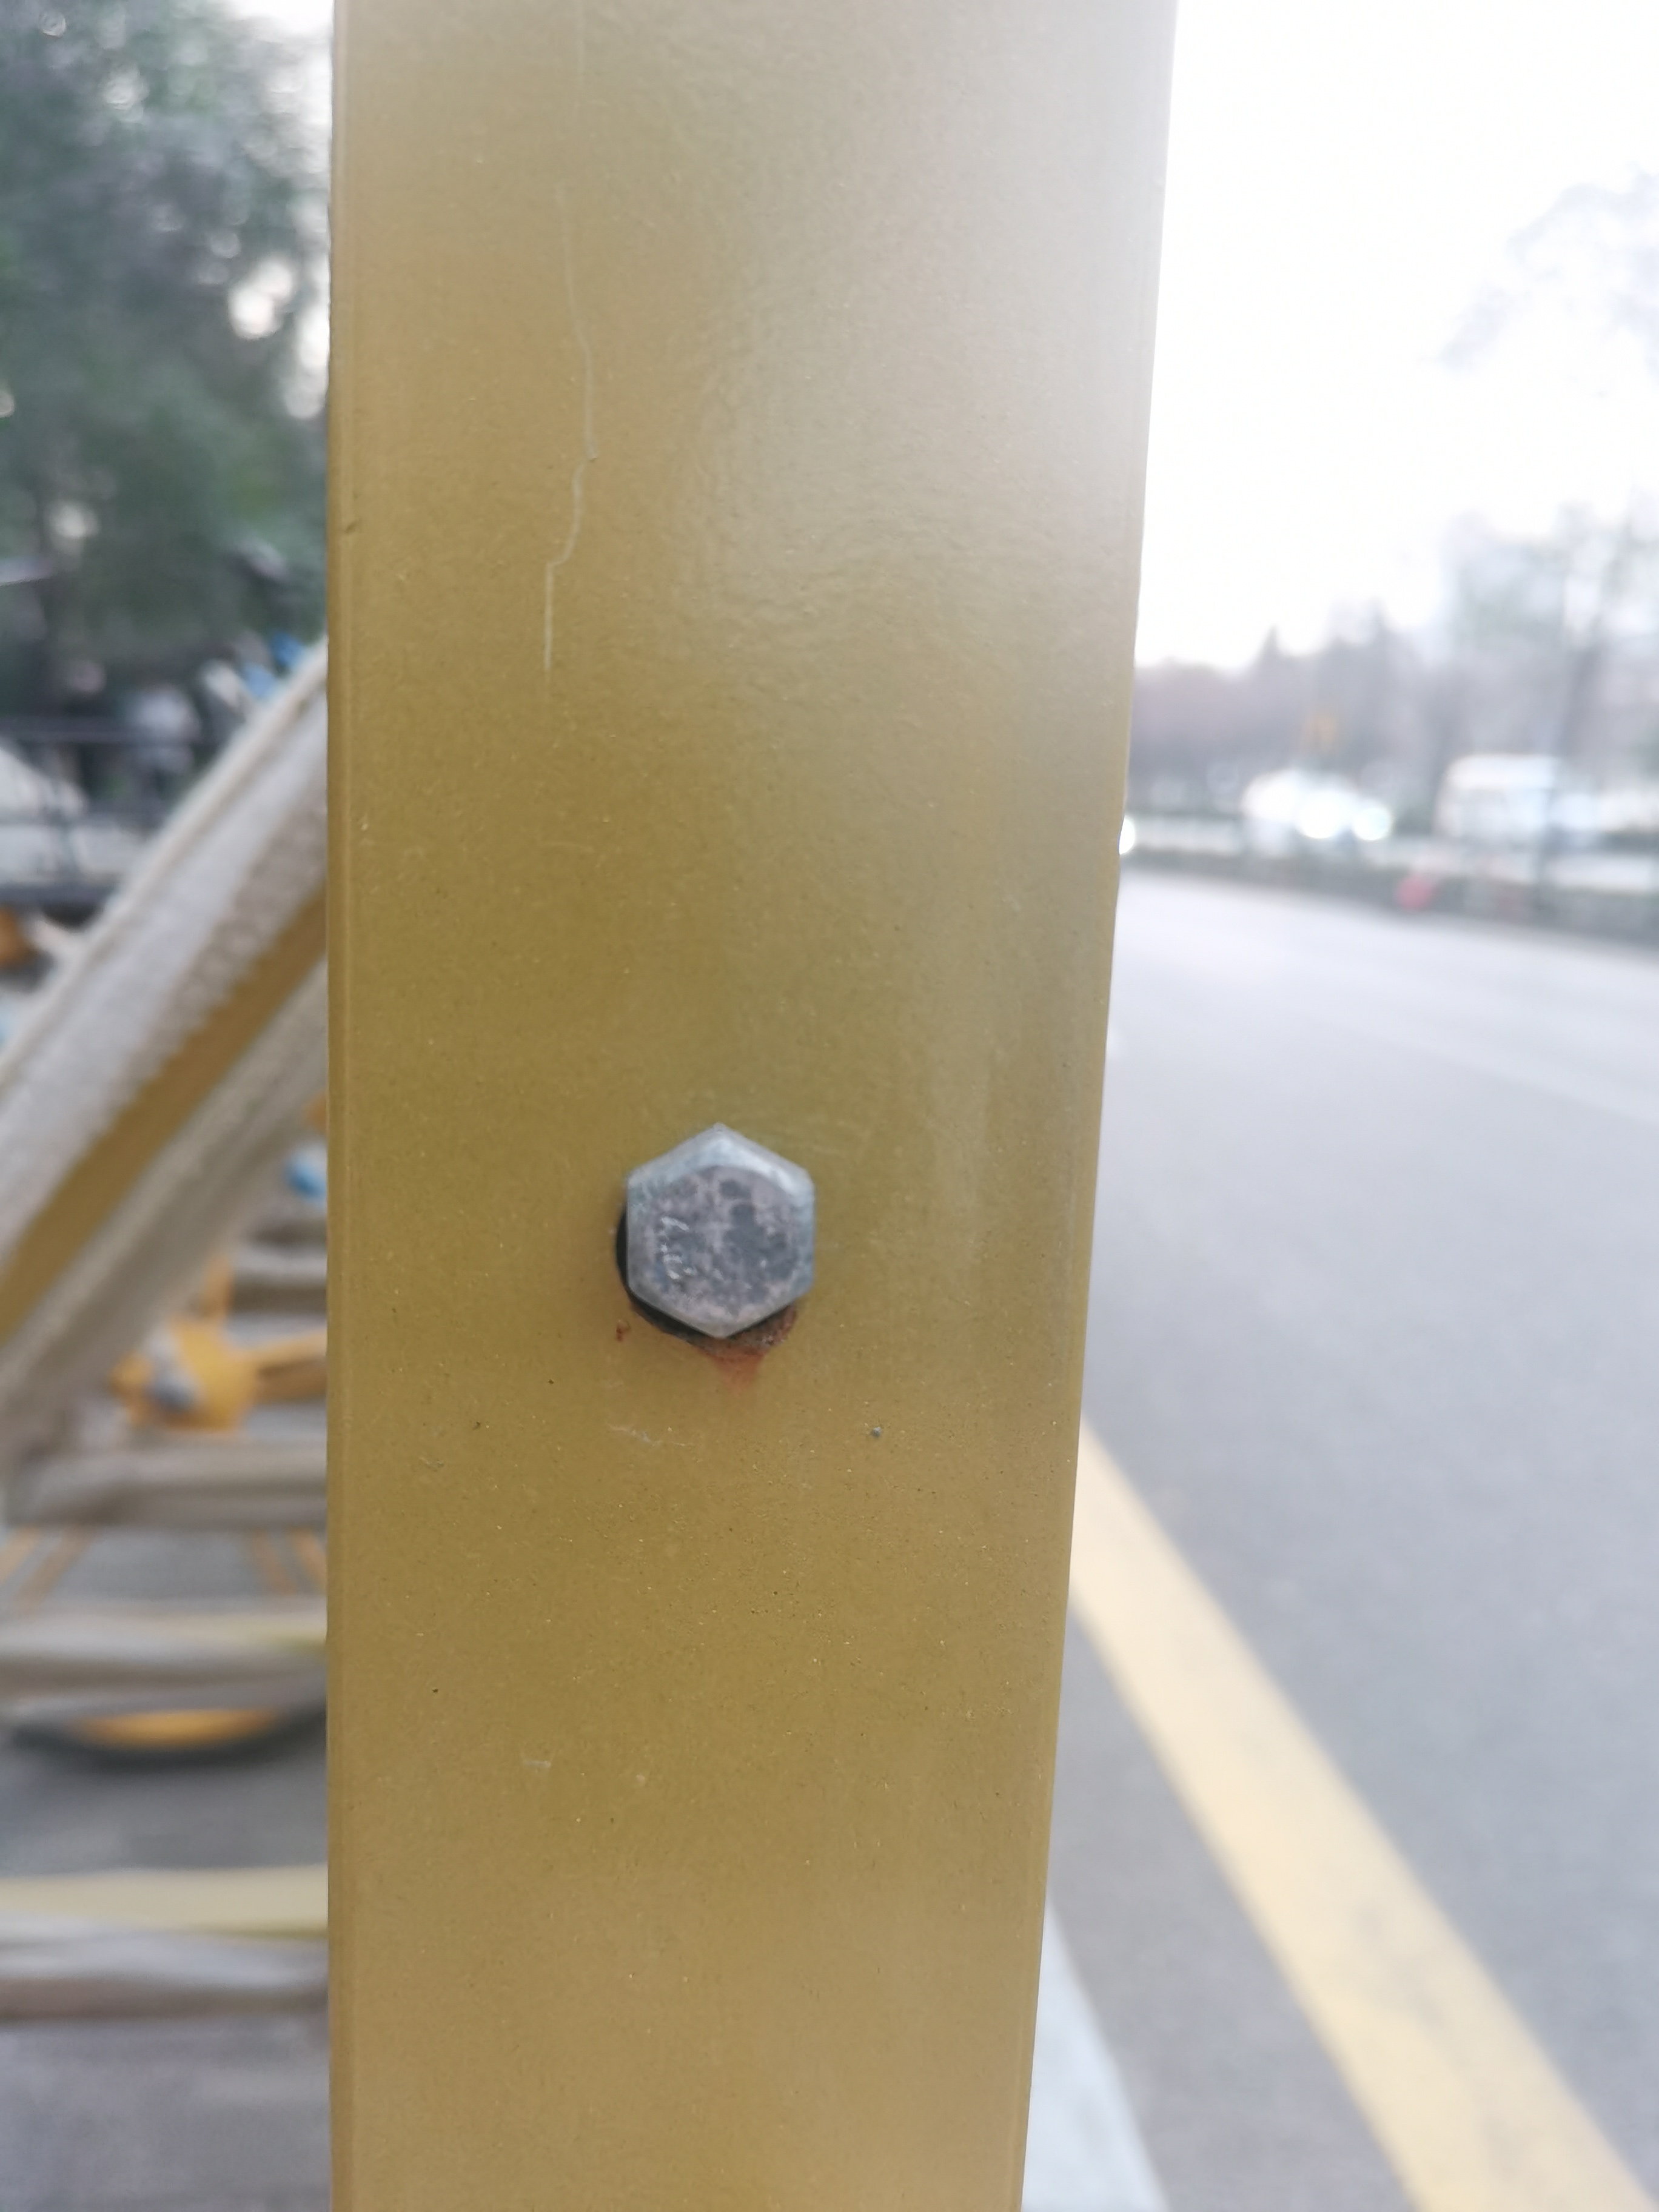bolt_a: (613, 1116, 821, 1346)
